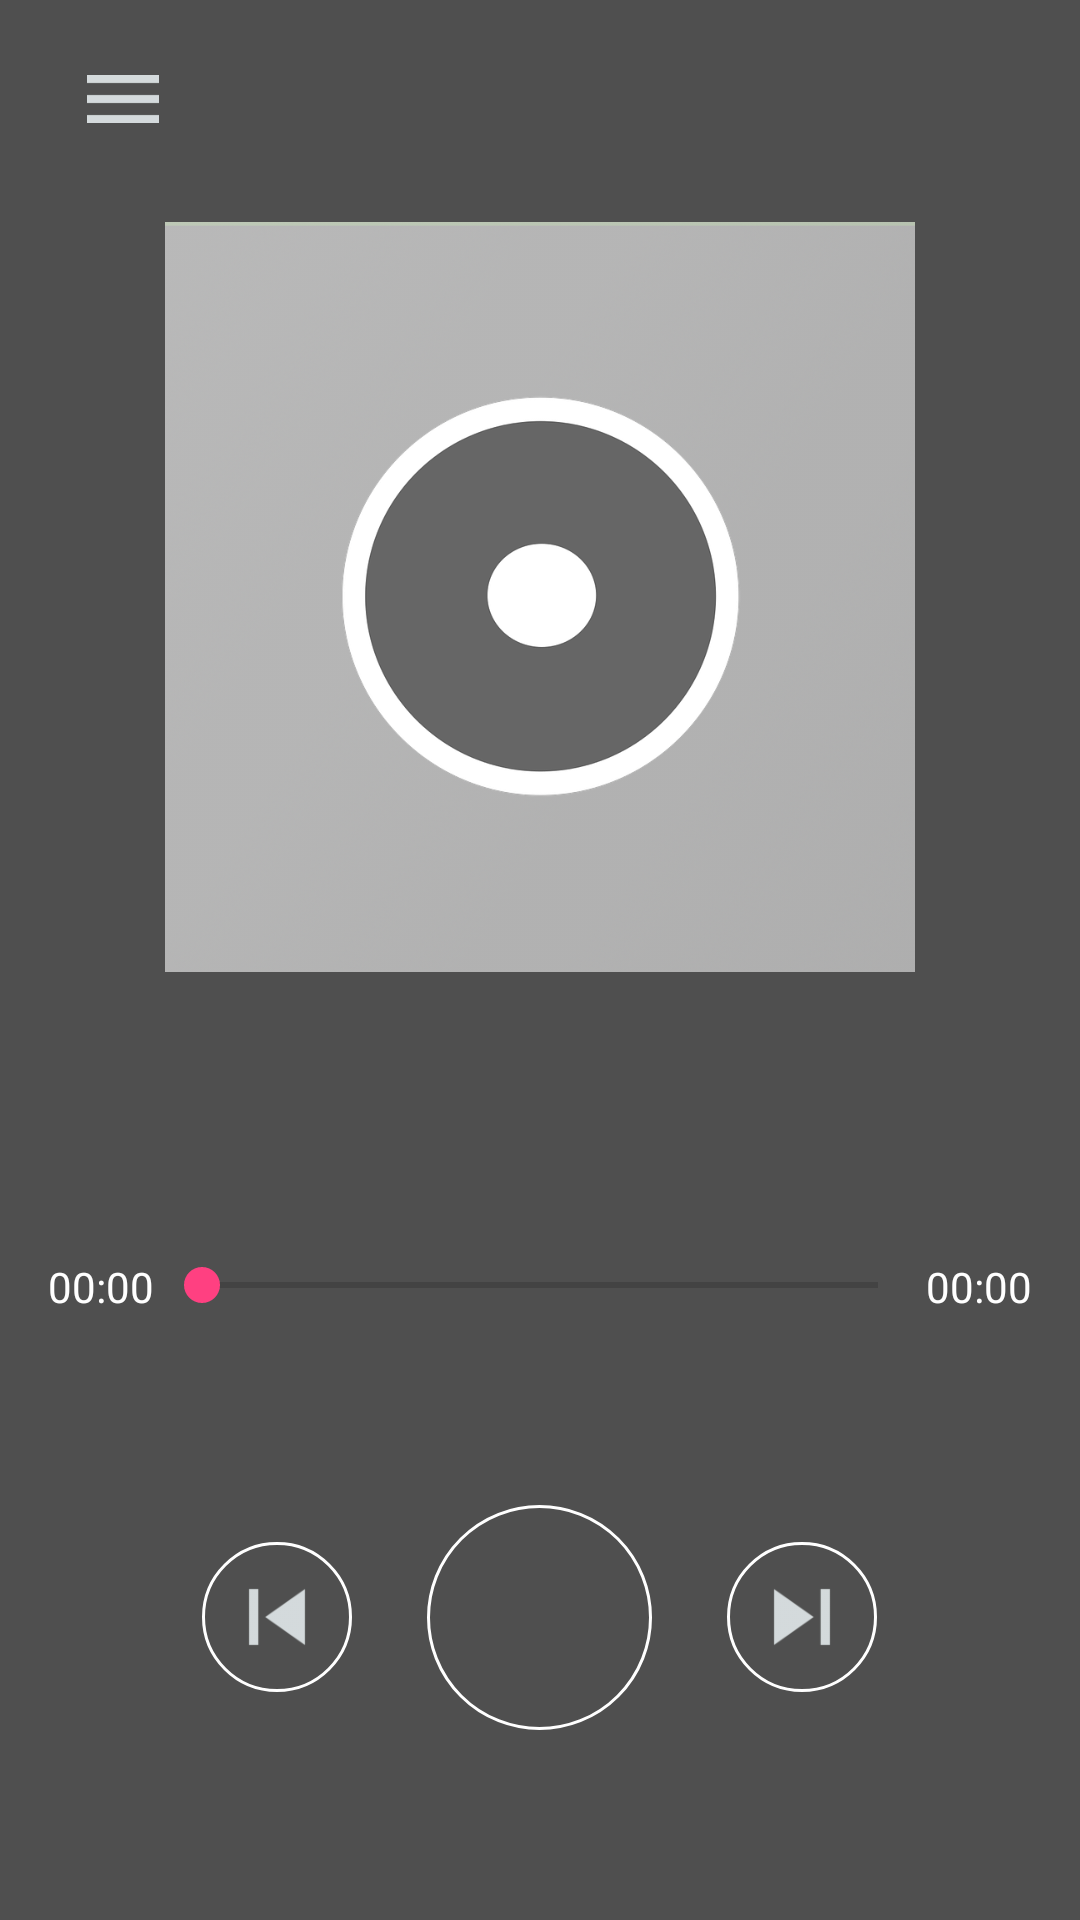

Where to tap for icons on this 1080x1920 app screen, as (x=x, y=y):
ham menu: (x=123, y=99)
next: (x=802, y=1617)
prev: (x=277, y=1617)
